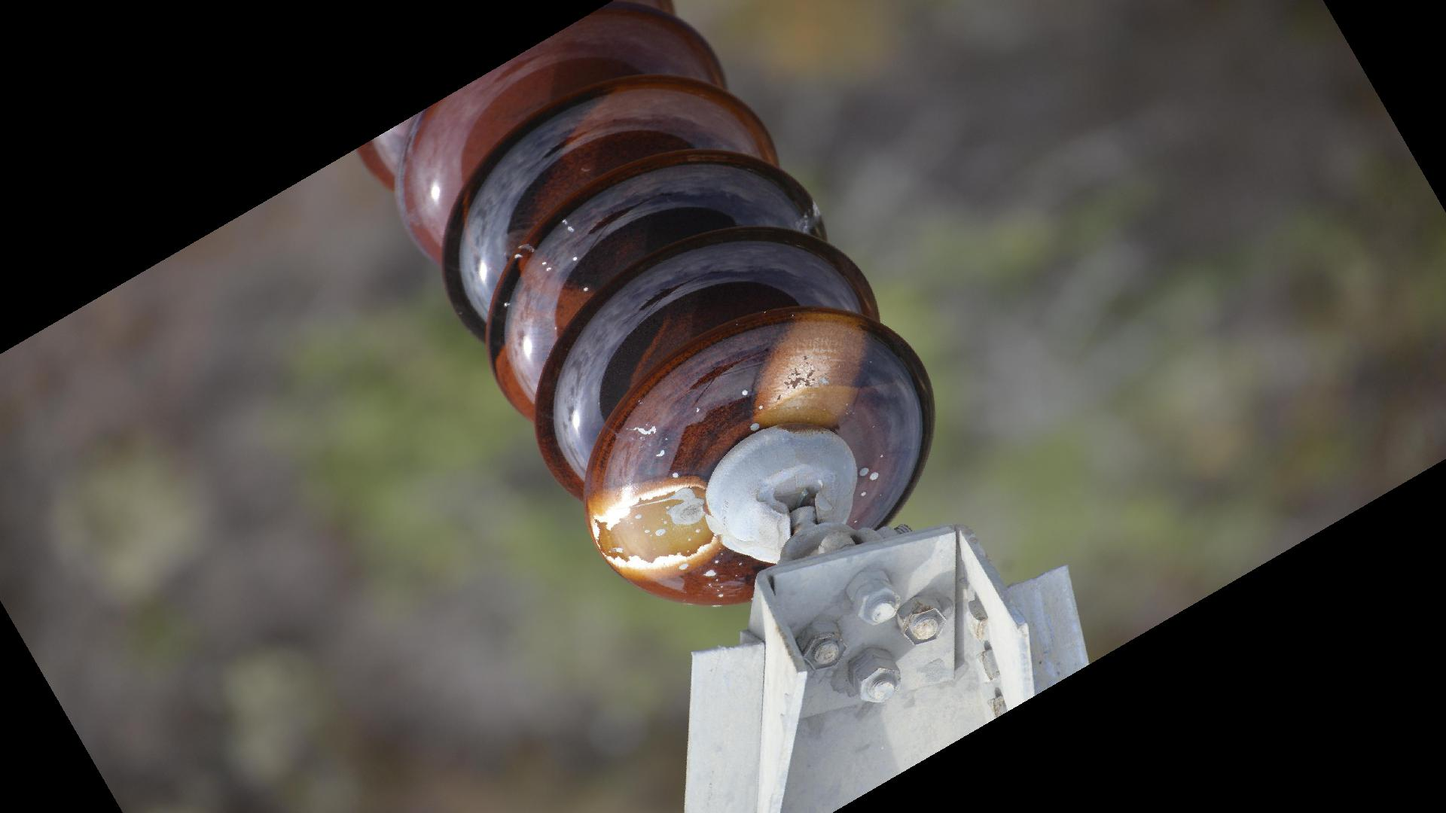insulator: (349, 1, 944, 611)
insulator_flashover: (746, 307, 869, 431), (583, 477, 720, 578)
